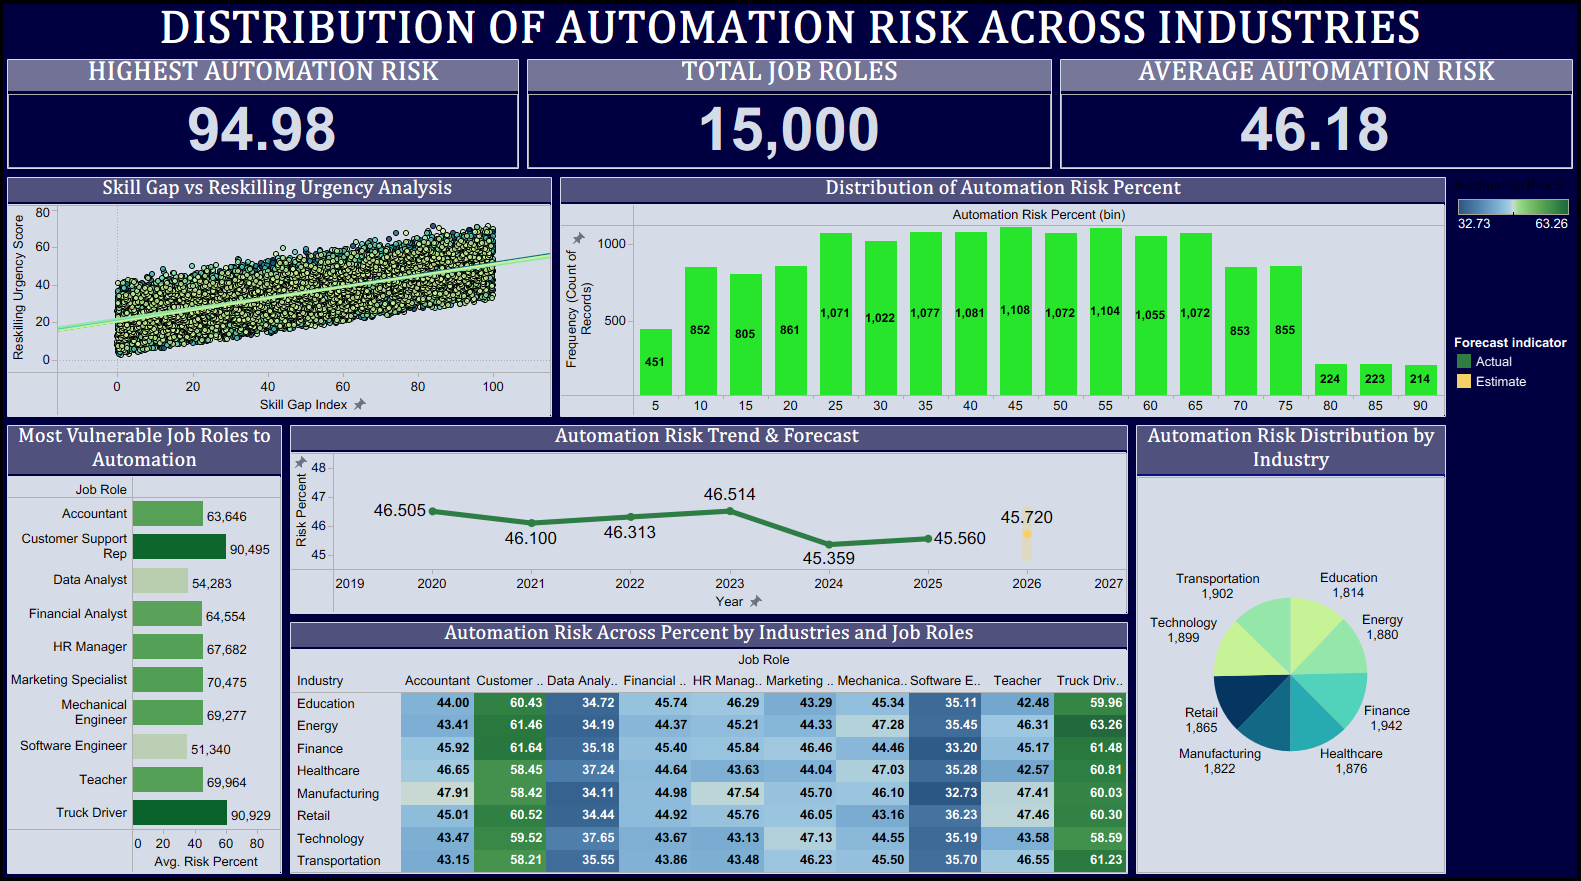

What the dashboard file says about the page in this screenshot:
{"tool":"tableau","page":{"name":"Dashboard","canvas":[1600,900],"ordinal":0},"visuals":[{"type":"text","box":[13,13,1574,51]},{"type":"worksheet","title":"KPI - Max Automation Risk","mark":"Automatic","box":[13,64,520,118]},{"type":"worksheet","title":"KPI - Total Job Roles","mark":"Automatic","box":[533,64,533,118]},{"type":"worksheet","title":"KPI - Avg Automation Risk","mark":"Automatic","box":[1066,64,521,118]},{"type":"worksheet","title":"Scatter Plot","mark":"Circle","rows":["reskilling_urgency_score"],"cols":["skill_gap_index"],"box":[13,182,553,248]},{"type":"worksheet","title":"Histogram","mark":"Automatic","rows":["automation_risk_percent"],"cols":["Automation Risk Percent (bin)"],"box":[566,182,894,248]},{"type":"legend","title":"Heatmap","param":"[federated.1yyuasm1w95noe15sswyt1hpaow4].[avg:automation_risk_percent:qk]","box":[1460,182,127,158]},{"type":"legend","title":"Line Chart","param":"[federated.1yyuasm1w95noe15sswyt1hpaow4].[none:Forecast Indicator:nk]","box":[1460,340,127,64]},{"type":"worksheet","title":"Bar Chart","mark":"Automatic","rows":["job_role"],"cols":["automation_risk_percent"],"box":[13,430,283,457]},{"type":"worksheet","title":"Line Chart","mark":"Automatic","rows":["automation_risk_percent"],"cols":["year"],"box":[296,430,846,197]},{"type":"worksheet","title":"Pie Chart","mark":"Pie","box":[1142,430,318,457]},{"type":"worksheet","title":"Heatmap","mark":"Square","rows":["industry"],"cols":["job_role"],"box":[296,627,846,260]}]}

Visuals, with their boxes in screenshot pixels (x1, y1, x2, y2), scaled from the page's 1600x900 canvas onto the 1581x881 screenshot:
text: x1=13, y1=13, x2=1568, y2=63
"KPI - Max Automation Risk" worksheet: x1=13, y1=63, x2=527, y2=178
"KPI - Total Job Roles" worksheet: x1=527, y1=63, x2=1053, y2=178
"KPI - Avg Automation Risk" worksheet: x1=1053, y1=63, x2=1568, y2=178
"Scatter Plot" worksheet (Circle marks): x1=13, y1=178, x2=559, y2=421
"Histogram" worksheet: x1=559, y1=178, x2=1443, y2=421
"Heatmap" legend: x1=1443, y1=178, x2=1568, y2=333
"Line Chart" legend: x1=1443, y1=333, x2=1568, y2=395
"Bar Chart" worksheet: x1=13, y1=421, x2=292, y2=868
"Line Chart" worksheet: x1=292, y1=421, x2=1128, y2=614
"Pie Chart" worksheet (Pie marks): x1=1128, y1=421, x2=1443, y2=868
"Heatmap" worksheet (Square marks): x1=292, y1=614, x2=1128, y2=868
